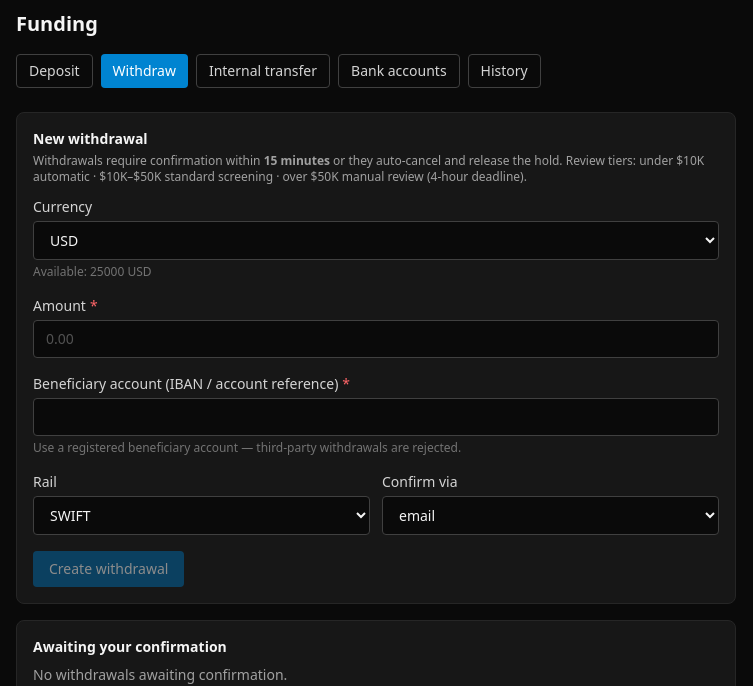
Test: WithdrawalPanel › blocks an amount exceeding the available balance
This screenshot has width=753, height=686.
In the field labelled "Amount*": (376, 339) top-left (33, 320), bottom-right (719, 358), type "99999999"
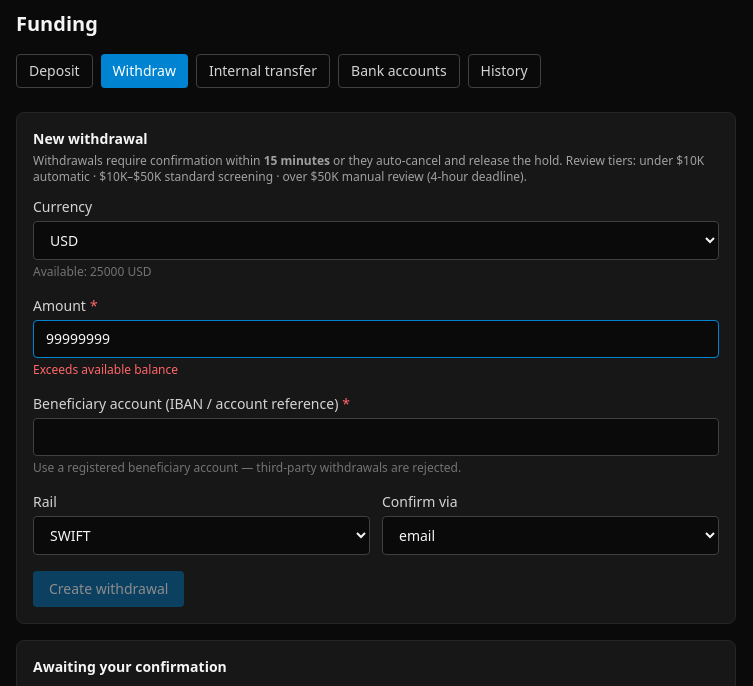
Expected: the button "Create withdrawal" is disabled, top-left (33, 571), bottom-right (184, 607)
Expected: the message reads "Exceeds available balance", top-left (33, 361), bottom-right (178, 378)
